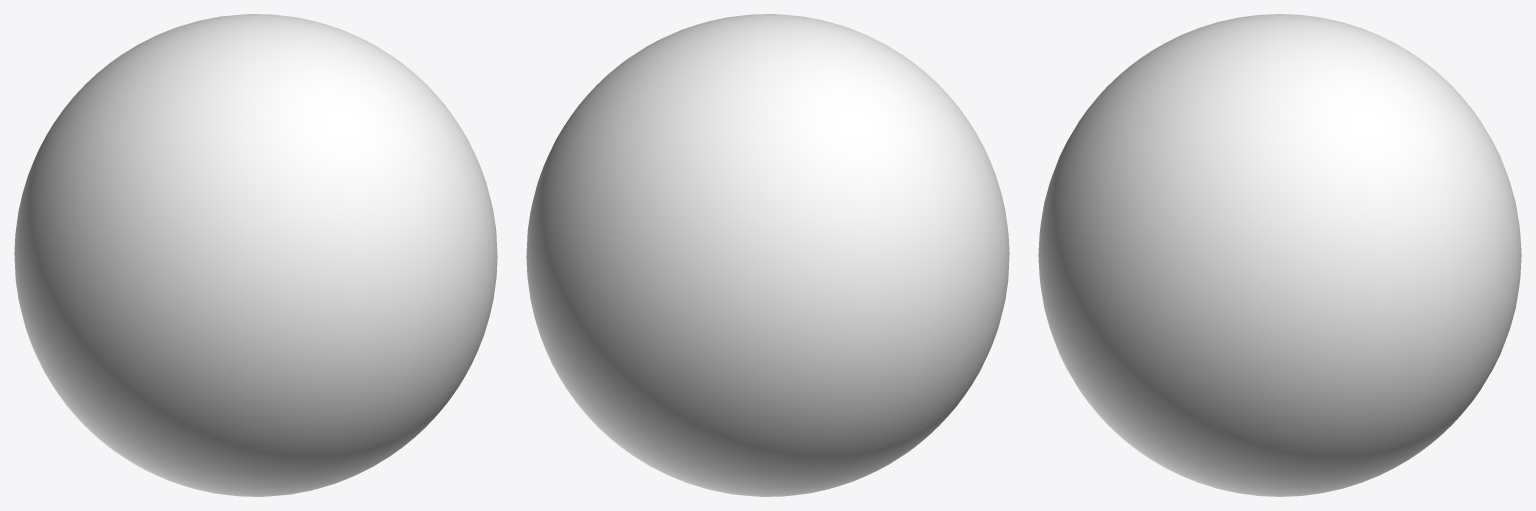
3 views of the same model, side by side, from view 1: azimuth 30°, elevation 25°; view 2: azimuth 150°, elevation 25°; view 3: azimuth 270°, elevation 25° (orthographic).
Parts seen in each view (by area): view 1: obj1; view 2: obj1; view 3: obj1.
Boxes of the visible parts, left/top/right/bottom form: obj1: left=14, top=14, right=497, bottom=496; obj1: left=526, top=14, right=1009, bottom=496; obj1: left=1038, top=14, right=1521, bottom=496.
Bounding box in the file's own units: 200 × 200 × 200.
1 material, 1 textured.
